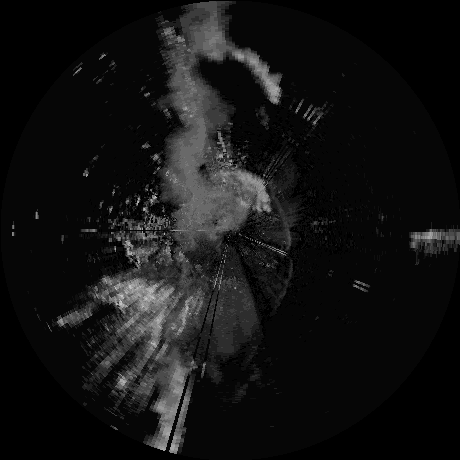frontgust: (271, 186, 293, 249)
